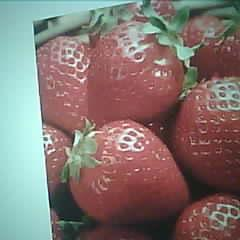straw-ripe: (69, 120, 189, 219)
